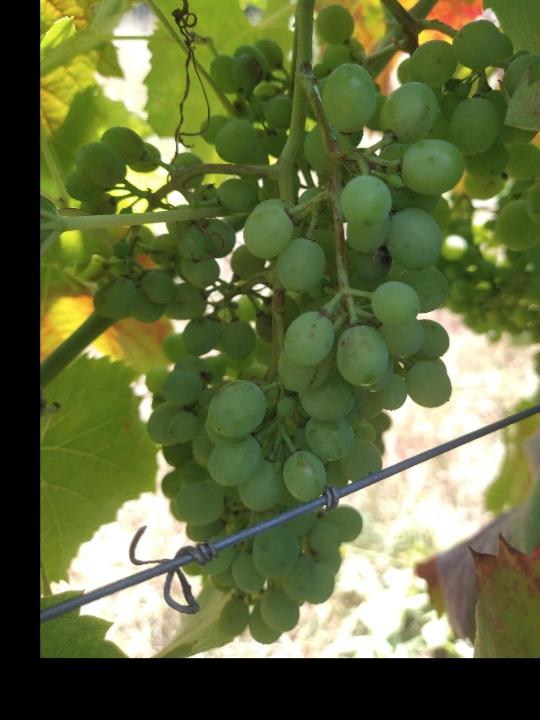grape: (63, 1, 540, 646)
